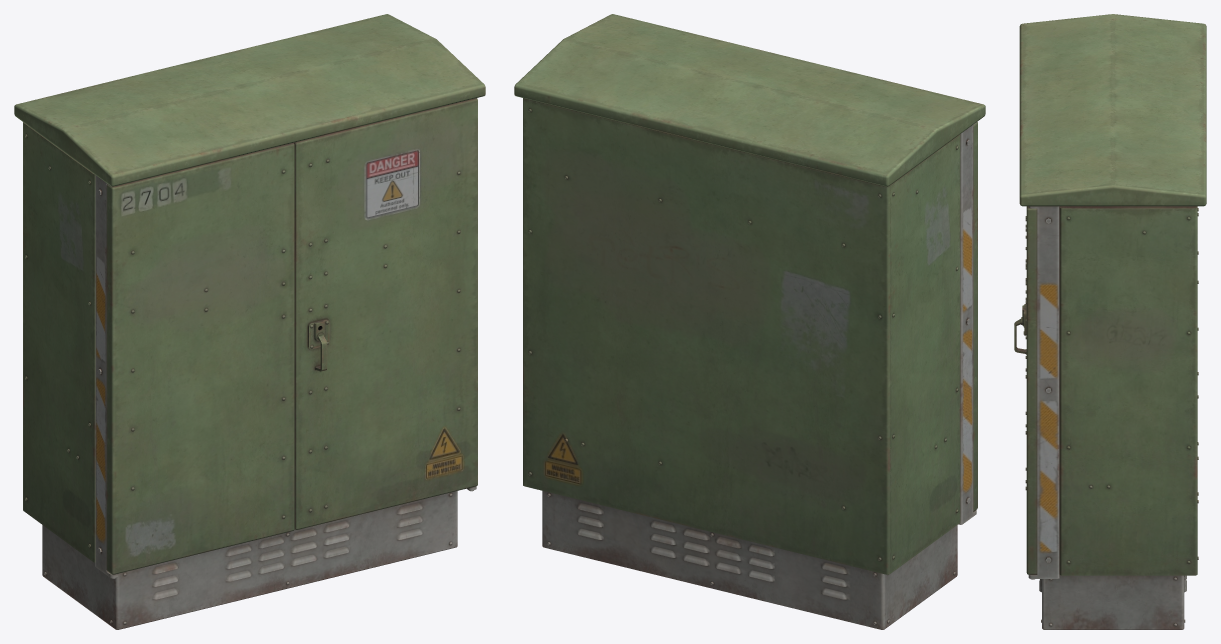
3 renders of one model, left to right at view 1: azimuth 30°, elevation 25°; view 2: azimuth 150°, elevation 25°; view 3: azimuth 270°, elevation 25°, orthographic. The views are drawn at different scales.
Visible parts, largest first — view 1: utility_box_02; view 2: utility_box_02; view 3: utility_box_02.
Boxes of the visible parts, x1,y1,x2,y2 form: utility_box_02: (14,14,485,629); utility_box_02: (514,14,985,629); utility_box_02: (1014,14,1206,629).
Size of the model in its own units: 0.92 by 1.12 by 0.432.
Materials: 1 (1 with a texture image).
